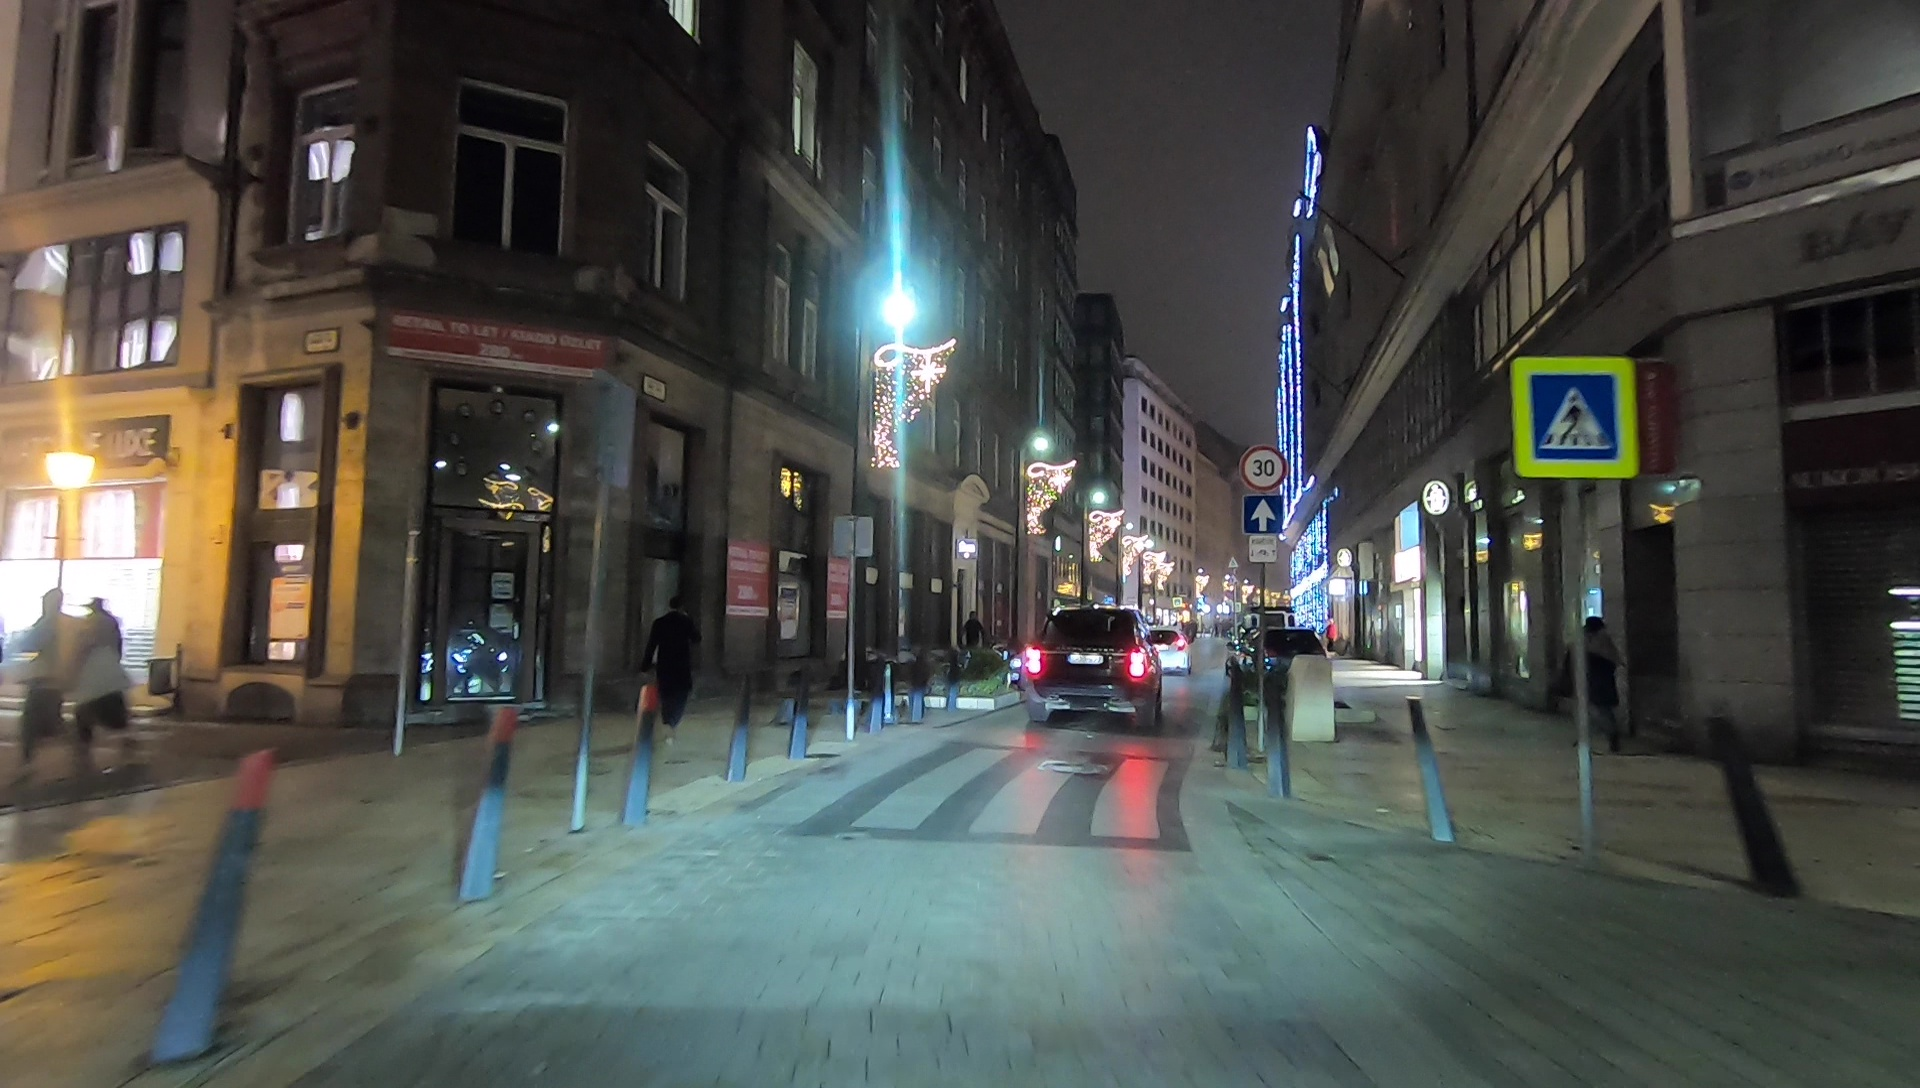person: (69, 591, 141, 784), (13, 592, 85, 770), (641, 597, 698, 751), (1567, 614, 1626, 759), (961, 611, 986, 669)
